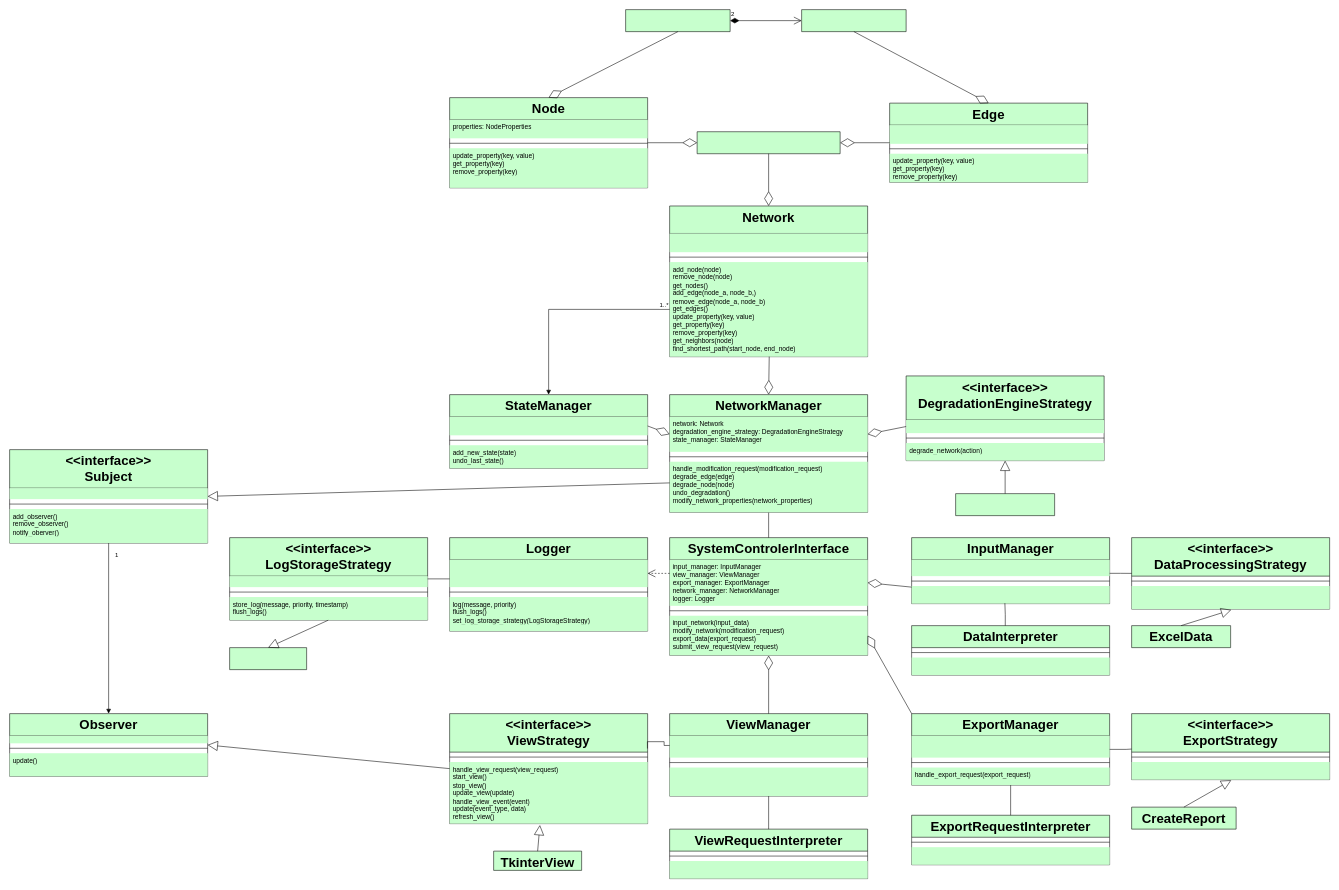
Some shapes in this 1339 by 890 pixel diagram are drawn without their labels. The shapes that lost their labels are listed below. From the top down, each one's centre as x and y in pixels, then its label:
At (x=677, y=20): "NodeProperties".
At (x=853, y=20): "EdgeProperties".
At (x=768, y=142): "NetworkProperties".
At (x=988, y=134): "properties: EdgeProperties".
At (x=768, y=242): "properties: NetworkProperties".
At (x=548, y=425): "state_history: Network[*]".
At (x=108, y=493): "observer: Observer".
At (x=1005, y=504): "No Physics".
At (x=548, y=573): "log_storage_strategy: LogStorageStrategy log_history".
At (x=1010, y=567): "data_interpreter: DataInterpreter".
At (x=1010, y=594): "get_network(input_data)".
At (x=1230, y=597): "validate(input_data) parse(input_data)".
At (x=268, y=658): "LocalFile".
At (x=1010, y=666): "get_data_processing_strategy(input_data)".
At (x=768, y=746): "view_request_interpreter: ViewRequestInterpreter view_strategy: ViewStrategy".
At (x=1010, y=746): "export_request_interpreter: ExportRequestInterpreter".
At (x=768, y=781): "handle_view_request(view_request)".
At (x=1230, y=770): "generate_export(export_request)".
At (x=768, y=869): "get_view_strategy(view_request)".
At (x=1010, y=855): "get_generate_export_strategy(export_request)".
